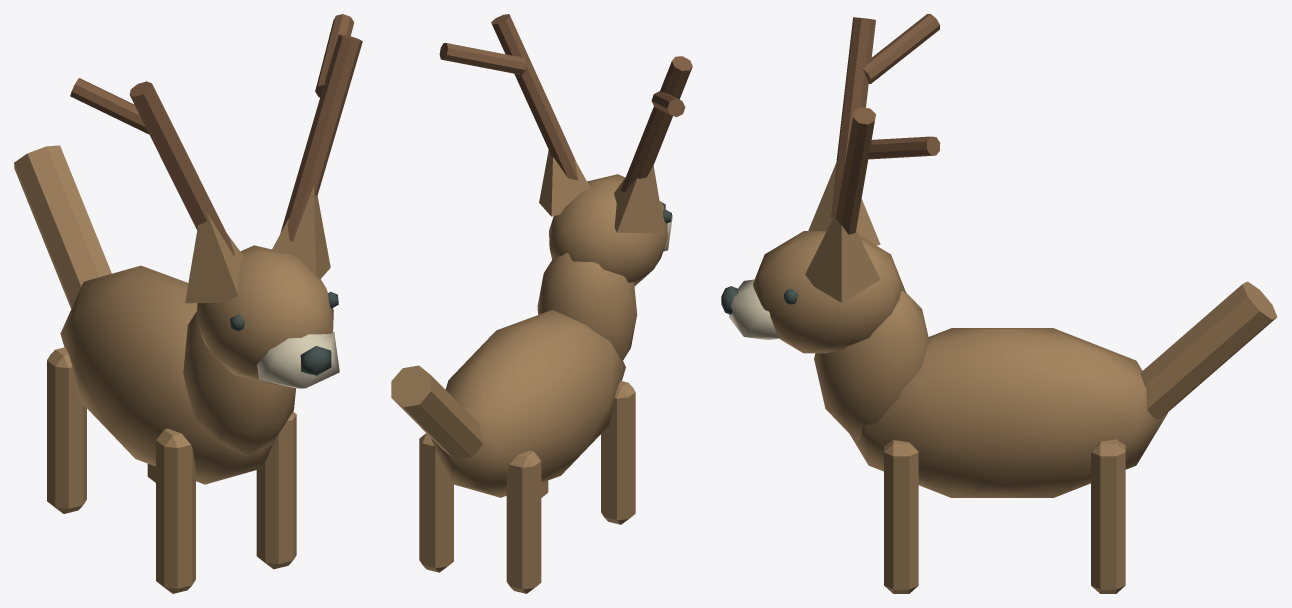
The model's file is deer.glb.
The picture shows the model from 3 angles, left to right: view 1: azimuth 30°, elevation 25°; view 2: azimuth 150°, elevation 25°; view 3: azimuth 270°, elevation 25°; orthographic projection. The views are drawn at different scales.
Parts seen in each view (by area): view 1: Model; view 2: Model; view 3: Model.
Boxes of the visible parts, x1,y1,x2,y2 form: Model: (14,14,362,593); Model: (391,14,692,593); Model: (721,14,1277,593).
Size of the model in its own units: 1.14 by 2.06 by 2.06.
